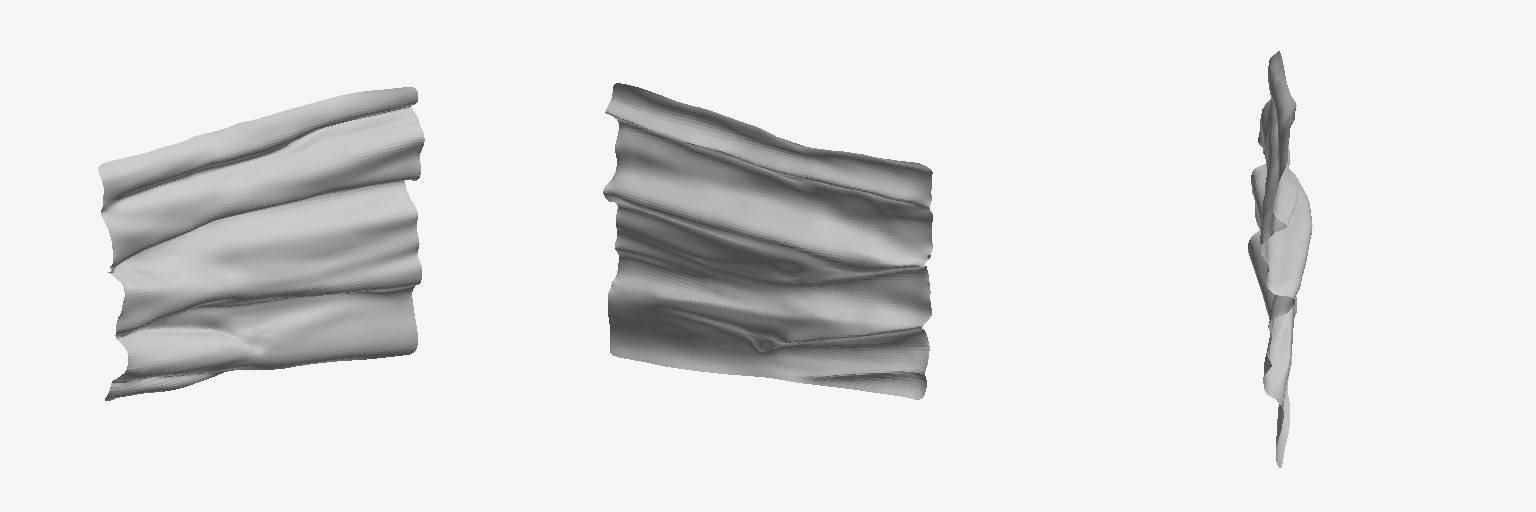
File: SM_Curtain_02_HighPoly_03.OBJ
The picture shows the model from 3 angles: view 1: azimuth 30°, elevation 25°; view 2: azimuth 150°, elevation 25°; view 3: azimuth 270°, elevation 25°; orthographic projection.
Parts seen in each view (by area): view 1: Group20824; view 2: Group20824; view 3: Group20824.
Part boxes in pixels (x1,y1,x2,y2): Group20824: (98,87,424,400); Group20824: (603,83,932,399); Group20824: (1248,51,1312,467).
Size of the model in its own units: 2.75 by 2.25 by 0.4842.